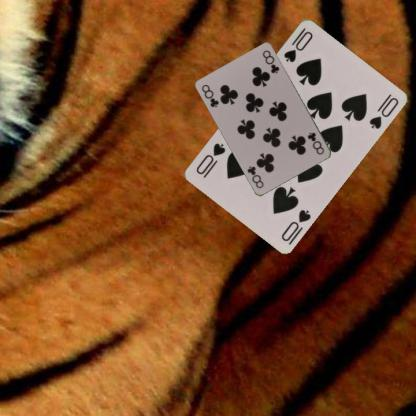10s: (280, 28, 314, 64), (278, 206, 312, 242)
8c: (305, 129, 326, 156), (199, 82, 220, 109)
